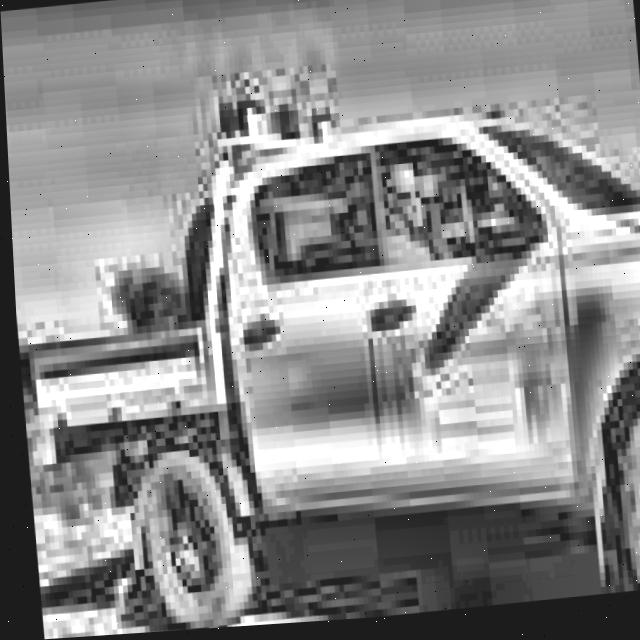light_vehicle: (2, 26, 640, 640)
